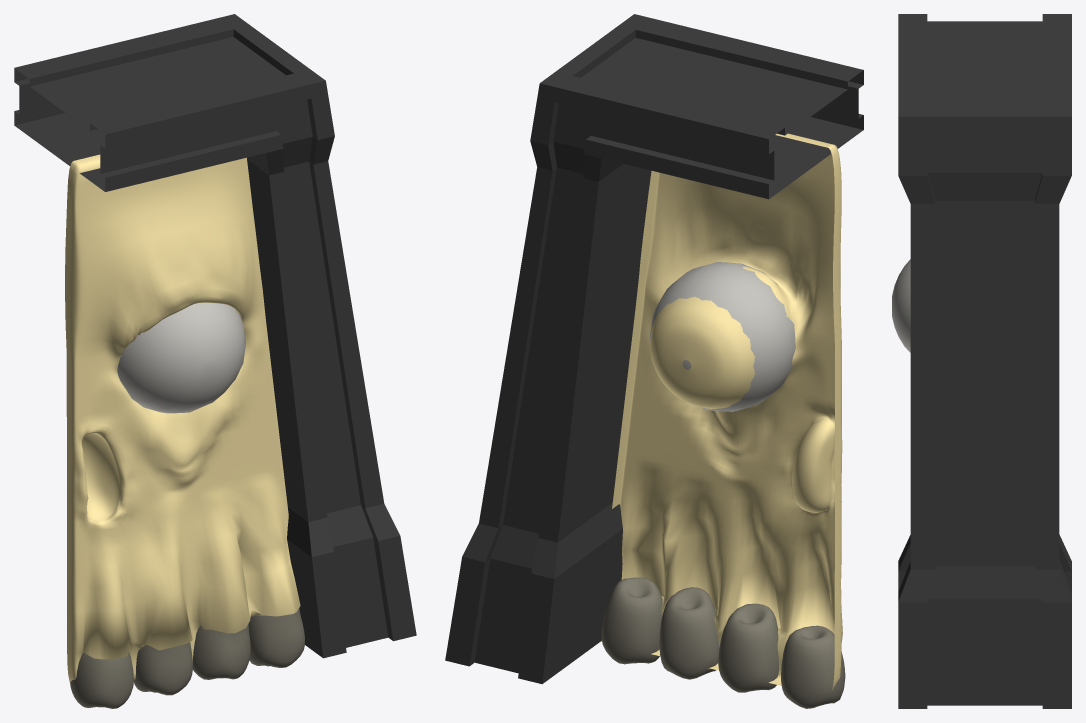
File: Door_Half_Substance.fbx
The picture shows the model from 3 angles, left to right: view 1: azimuth 30°, elevation 25°; view 2: azimuth 150°, elevation 25°; view 3: azimuth 270°, elevation 25°; orthographic projection. The views are drawn at different scales.
Parts seen in each view (by area): view 1: pCube22, pCube32, pSphere5, pCube23, pCube25, pCube27, pCube31; view 2: pCube32, pCube22, pSphere5, pCube31, pCube27, pCube25, pCube23; view 3: pCube32, pSphere5.
Part boxes in pixels (x1,y1,x2,y2): pCube22: (65,154,300,682); pCube32: (14,14,416,658); pSphere5: (117,302,245,413); pCube23: (70,651,133,708); pCube25: (248,608,304,667); pCube27: (193,624,250,679); pCube31: (134,642,192,695); pCube32: (445,14,863,684); pCube22: (601,133,842,689); pSphere5: (650,262,795,411); pCube31: (718,603,778,692); pCube27: (659,587,719,679); pCube25: (601,577,662,664); pCube23: (781,625,845,708); pCube32: (898,14,1071,708); pSphere5: (892,259,910,352).
Size of the model in its own units: 144 by 257 by 74.02.
